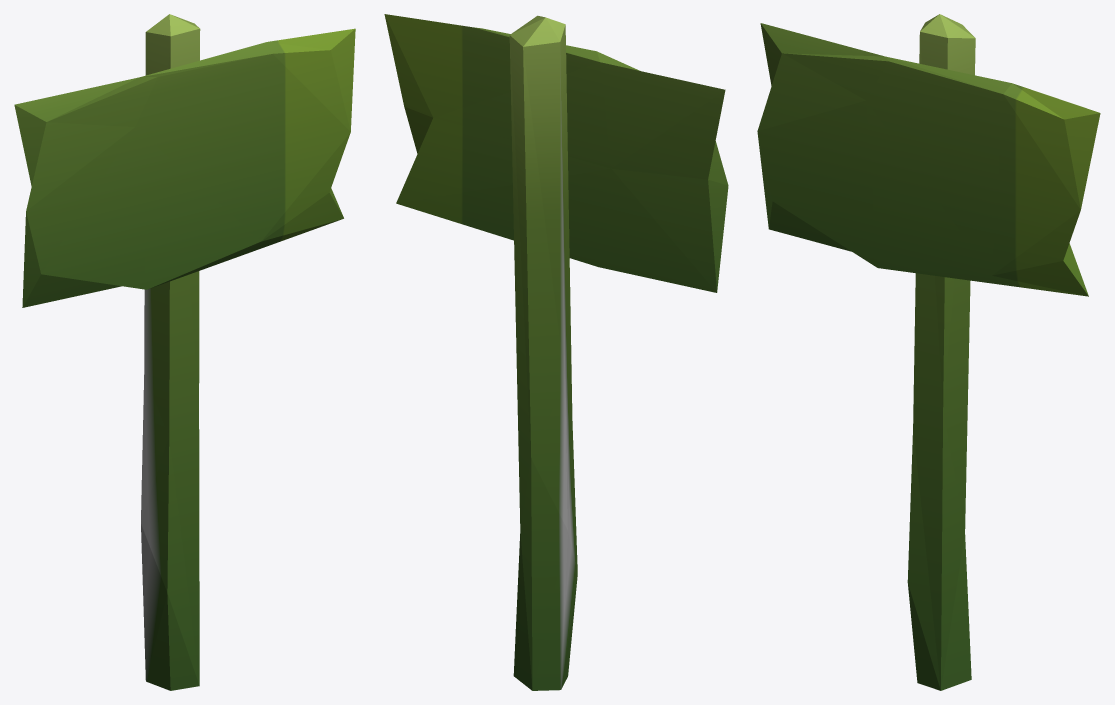
Rendered from Pointer_01.fbx.
3 views of the same model, side by side, from view 1: azimuth 30°, elevation 25°; view 2: azimuth 150°, elevation 25°; view 3: azimuth 330°, elevation 25° (orthographic).
Visible parts, largest first — view 1: Pointer_01; view 2: Pointer_01; view 3: Pointer_01.
Boxes of the visible parts, x1,y1,x2,y2 form: Pointer_01: (14,14,355,690); Pointer_01: (384,14,728,690); Pointer_01: (757,14,1100,690).
Bounding box in the file's own units: 2.23 × 4.15 × 0.397.
